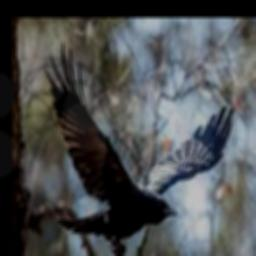Crow: (45, 42, 235, 256)
